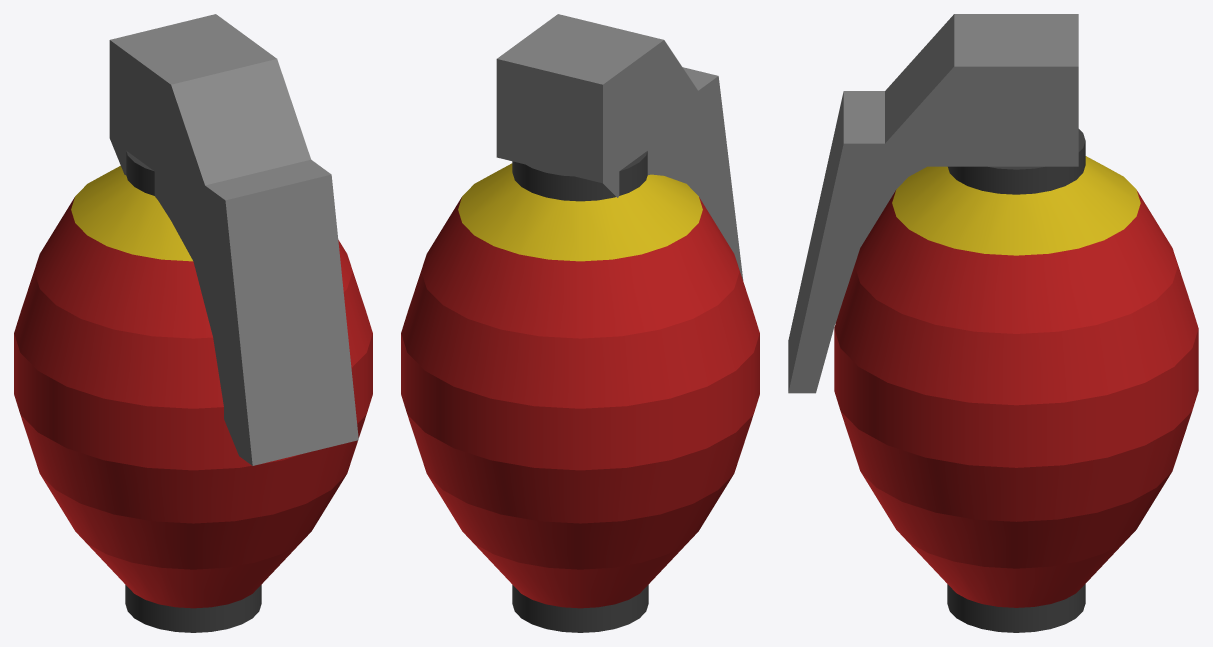
The model's file is grenade.glb.
3 renders of one model, left to right at view 1: azimuth 30°, elevation 25°; view 2: azimuth 150°, elevation 25°; view 3: azimuth 270°, elevation 25°, orthographic.
Visible parts, largest first — view 1: mergedBlocks(Clone); view 2: mergedBlocks(Clone); view 3: mergedBlocks(Clone).
Part boxes in pixels (bbox=[...]): mergedBlocks(Clone): bbox=[14, 14, 372, 632]; mergedBlocks(Clone): bbox=[401, 14, 759, 632]; mergedBlocks(Clone): bbox=[788, 14, 1198, 632].
Size of the model in its own units: 0.3165 by 0.54 by 0.3563.
